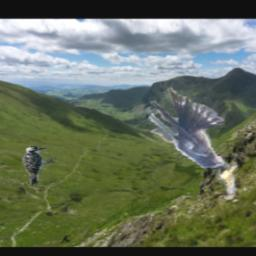Sparrow: (212, 160, 237, 194)
Swallow: (150, 86, 226, 169)
Woodpecker: (21, 146, 56, 186)
